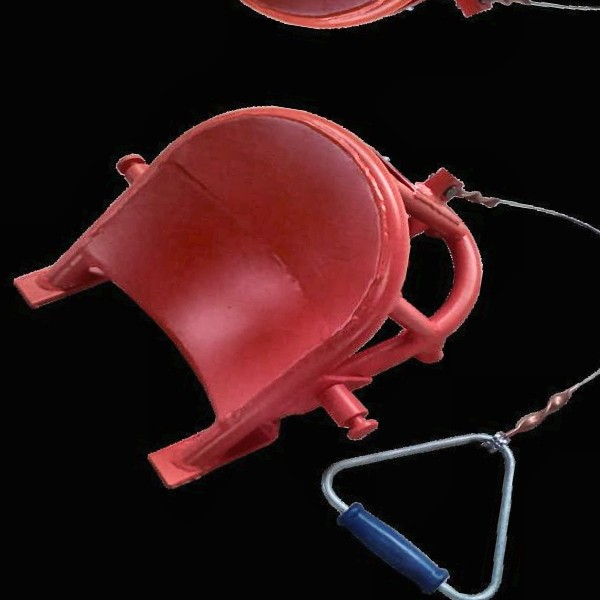chock: (0, 68, 509, 536)
